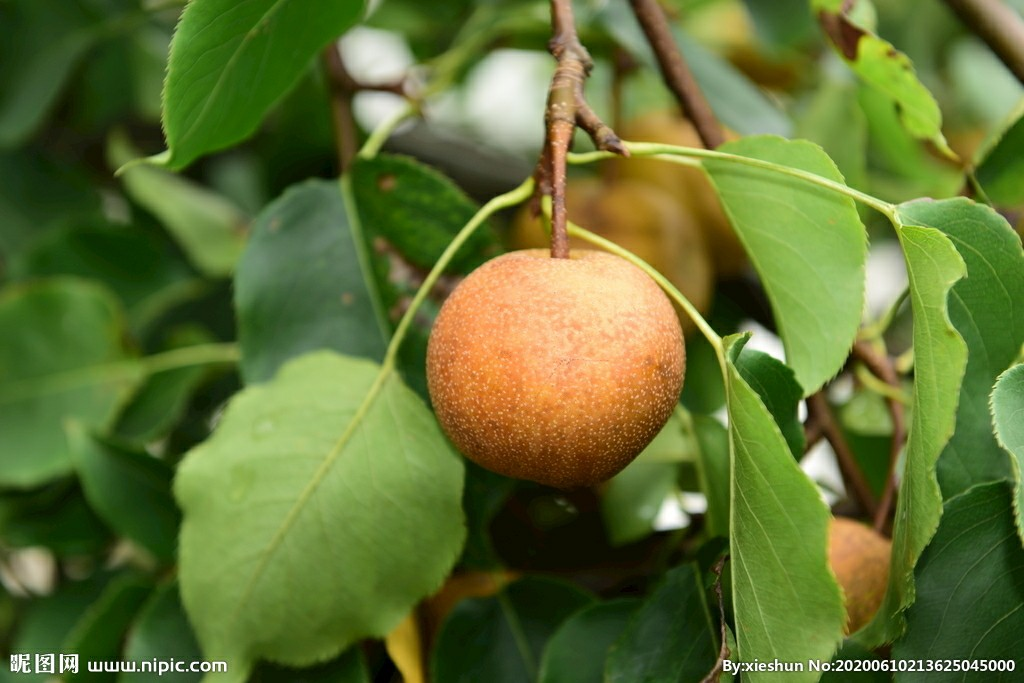pear: (425, 242, 687, 483)
